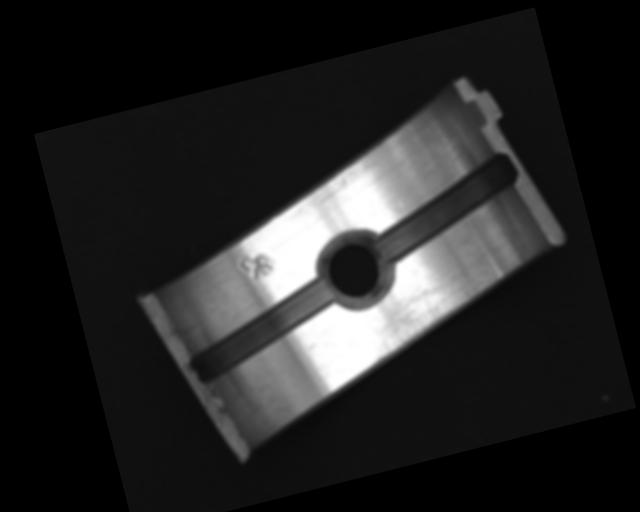bruise: (234, 248, 279, 287)
gap: (357, 149, 532, 266), (177, 277, 344, 384)
hole: (309, 224, 401, 316)
scratch: (350, 275, 500, 369)
